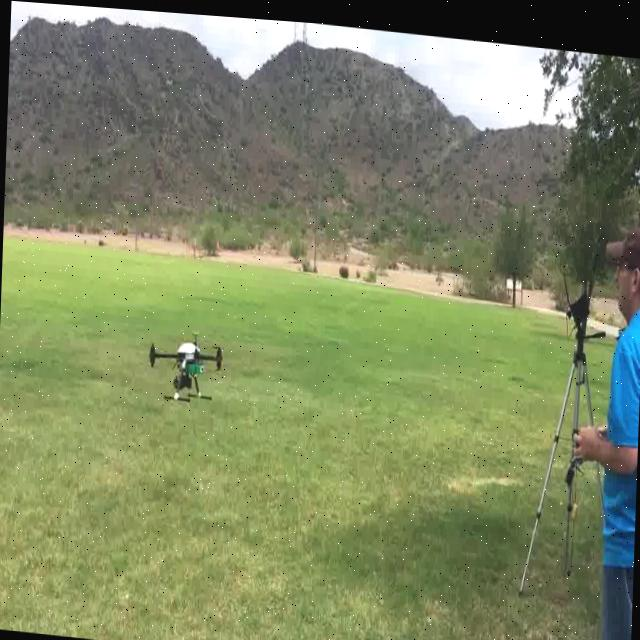drone: (140, 303, 227, 414)
